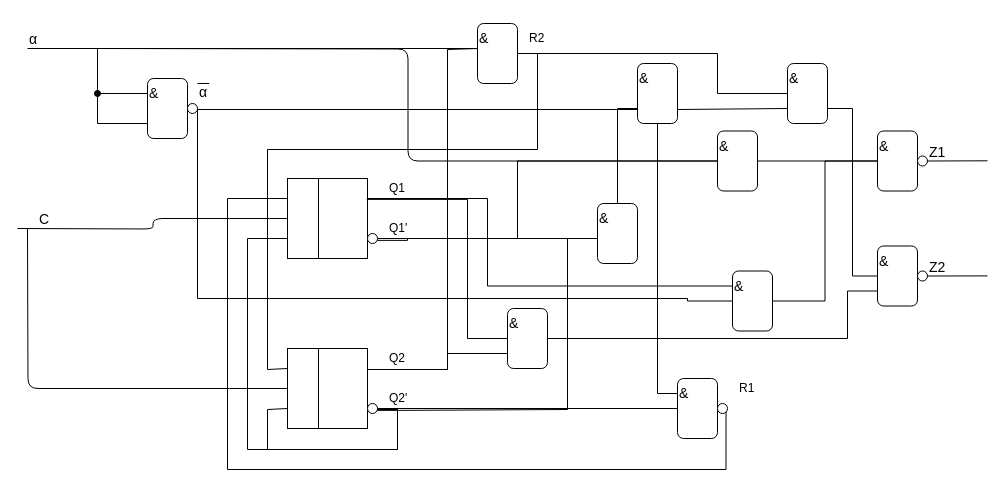
This 1006x488 diagram has some shape labels left out. Here are the shapes that lost their labels. From the top down, the box of each, then its label:
(286, 178, 368, 258): R1 C S1
(286, 348, 368, 428): R2 C S2
